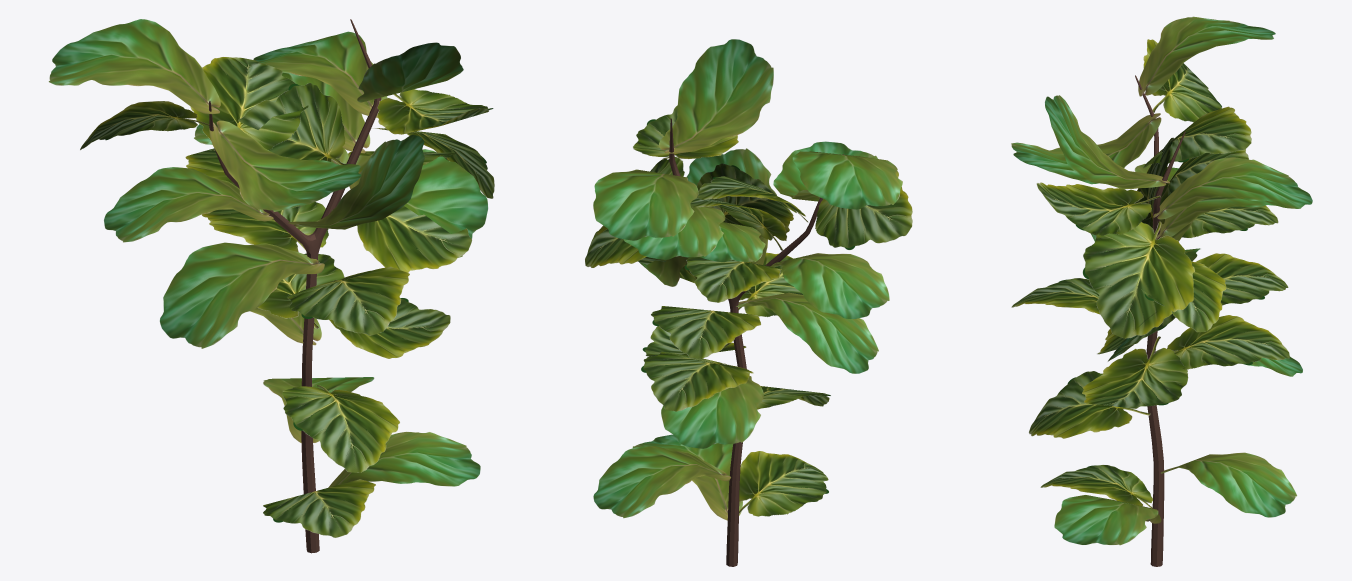
Rendered from Fig Leaf Plant.glb.
The picture shows the model from 3 angles, left to right: view 1: azimuth 30°, elevation 25°; view 2: azimuth 150°, elevation 25°; view 3: azimuth 270°, elevation 25°; orthographic projection. The views are drawn at different scales.
Parts seen in each view (by area): view 1: Fig Leaf Plant; view 2: Fig Leaf Plant; view 3: Fig Leaf Plant.
Boxes of the visible parts, x1,y1,x2,y2 form: Fig Leaf Plant: (48,19,494,553); Fig Leaf Plant: (585,39,912,566); Fig Leaf Plant: (1011,16,1312,566).
Size of the model in its own units: 0.9032 by 1.09 by 0.7058.
2 materials, 1 textured.
